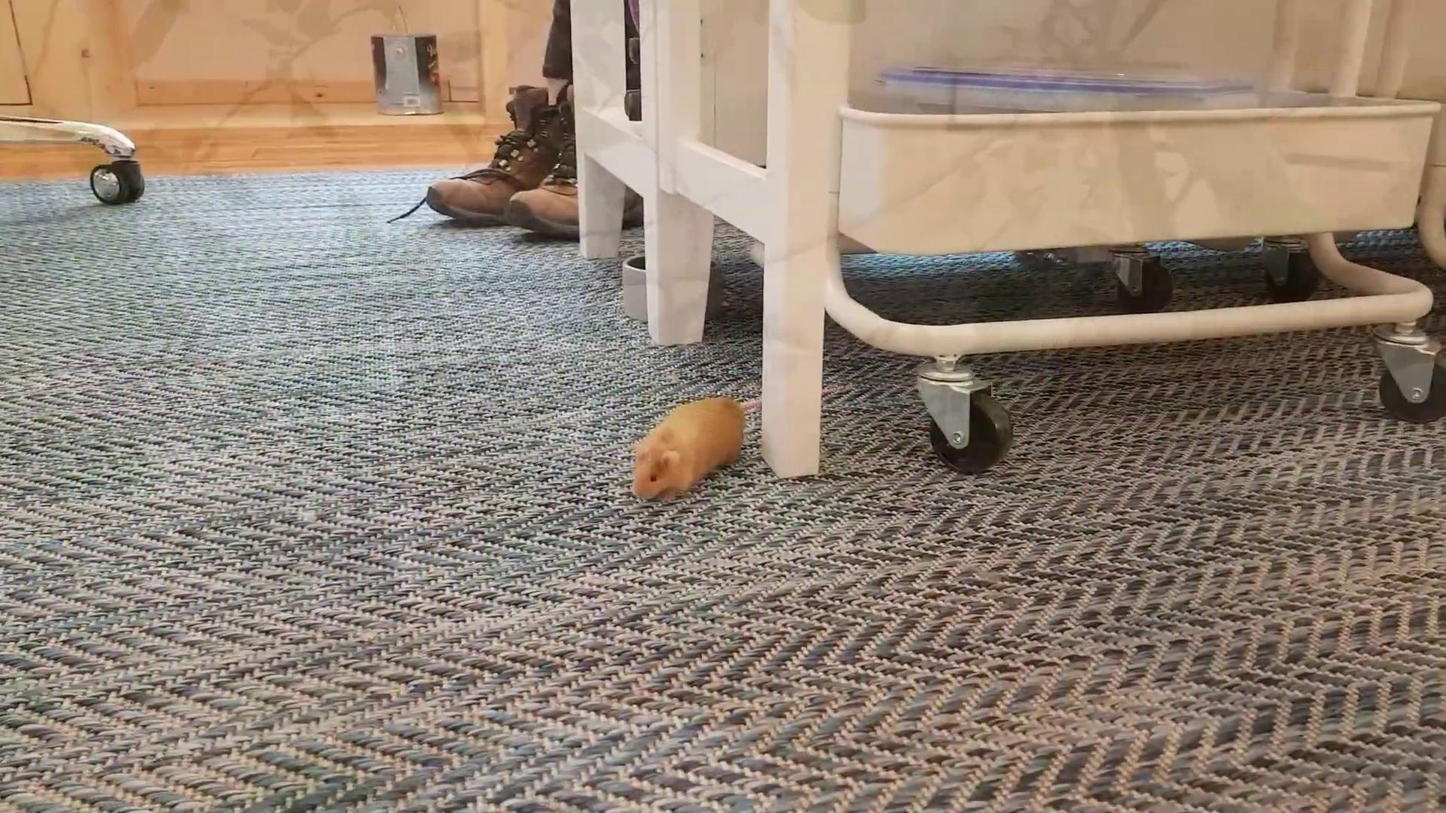rat: (632, 397, 744, 504)
